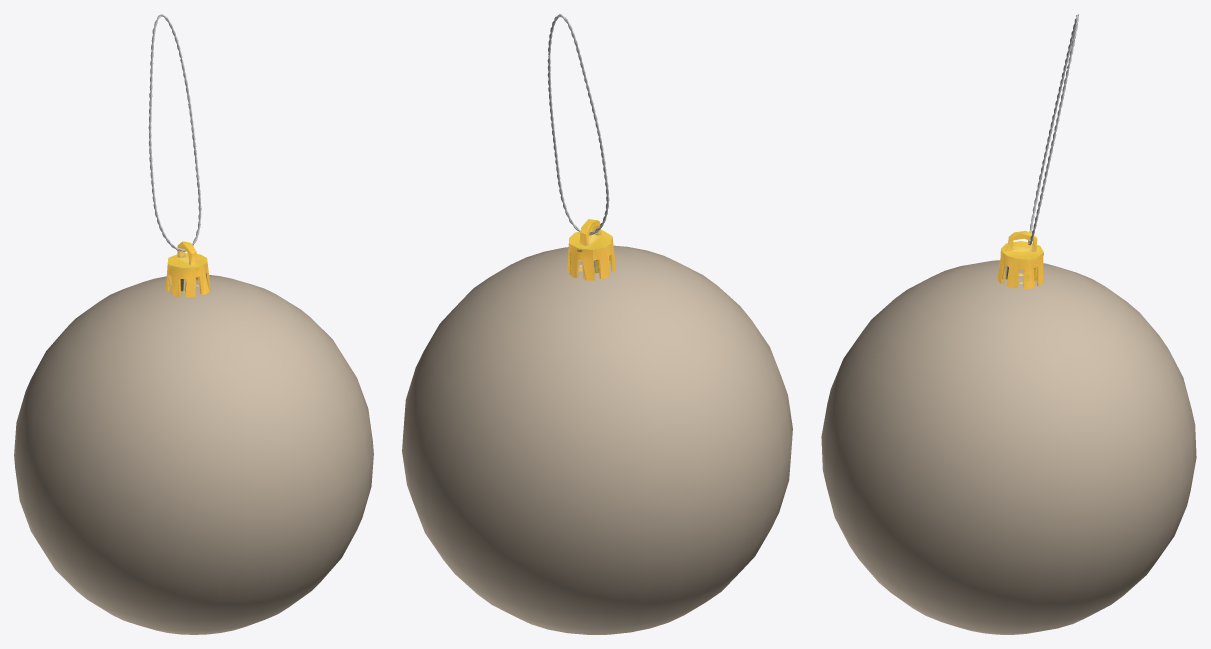
File: Gold_Orb.glb
3 renders of one model, left to right at view 1: azimuth 30°, elevation 25°; view 2: azimuth 150°, elevation 25°; view 3: azimuth 270°, elevation 25°, orthographic. The views are drawn at different scales.
Visible parts, largest first — view 1: Sphere, GN Instance; view 2: Sphere, GN Instance; view 3: Sphere, GN Instance.
Boxes of the visible parts, left/top/right/bottom form: Sphere: left=14, top=241, right=373, bottom=634; GN Instance: left=148, top=14, right=201, bottom=251; Sphere: left=402, top=219, right=792, bottom=634; GN Instance: left=547, top=14, right=609, bottom=235; Sphere: left=821, top=231, right=1196, bottom=634; GN Instance: left=1028, top=14, right=1078, bottom=245.
Size of the model in its own units: 0.08 by 0.1417 by 0.0799.
3 materials, 1 textured.
